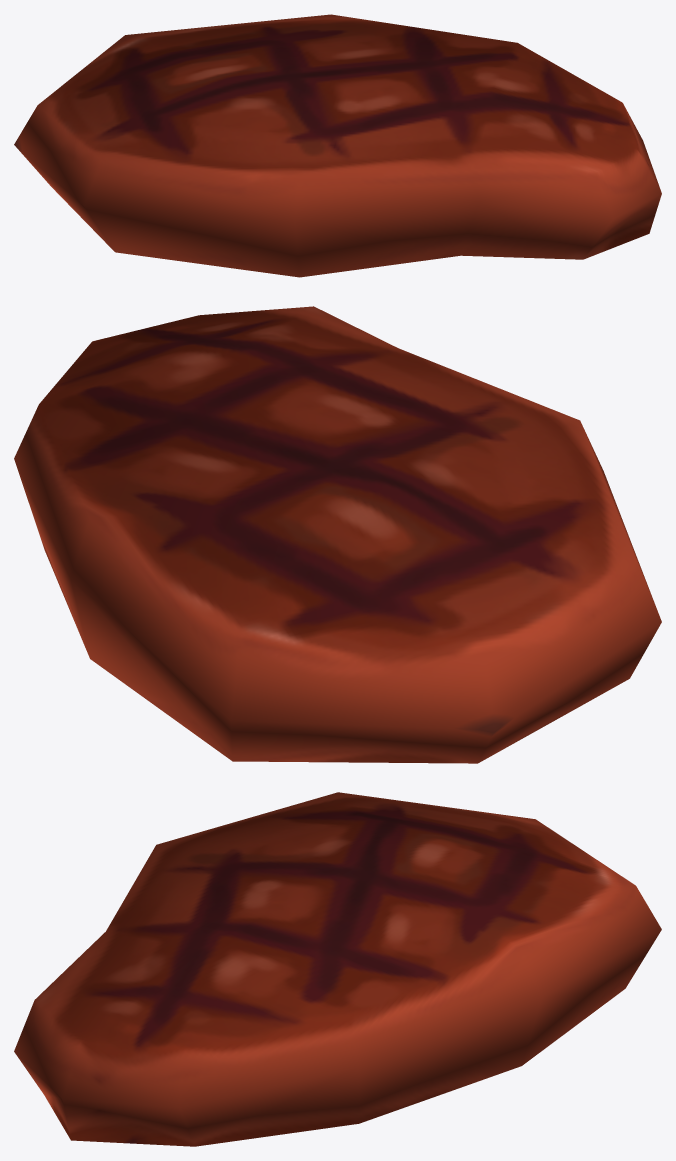
Rendered from cooked meat.fbx.
The picture shows the model from 3 angles, top to bottom: view 1: azimuth 30°, elevation 25°; view 2: azimuth 150°, elevation 25°; view 3: azimuth 270°, elevation 25°; orthographic projection. The views are drawn at different scales.
Visible parts, largest first — view 1: P_PROP_food_meat_08; view 2: P_PROP_food_meat_08; view 3: P_PROP_food_meat_08.
Part boxes in pixels (x1=…): P_PROP_food_meat_08: x1=14, y1=14, x2=661, y2=277; P_PROP_food_meat_08: x1=14, y1=306, x2=661, y2=763; P_PROP_food_meat_08: x1=14, y1=792, x2=661, y2=1146.
Bounding box in the file's own units: 33.18 × 7.84 × 33.08.
